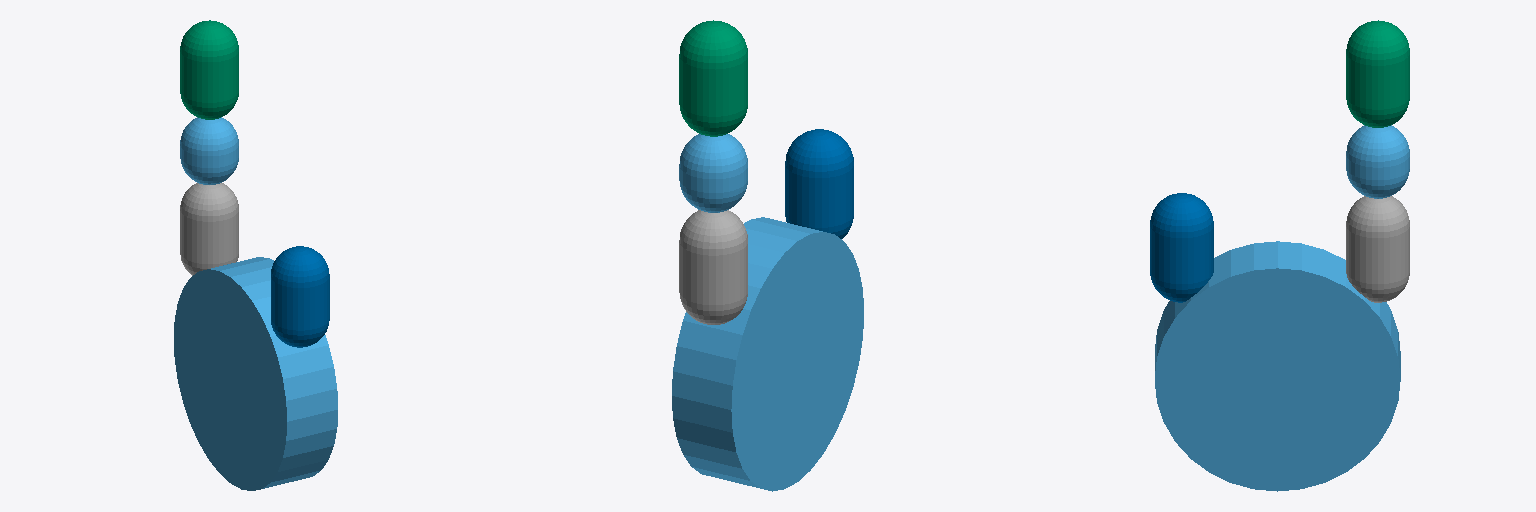
robot.urdf — DexterousHand:
<?xml version="1.0"?>
<robot name="DexterousHand">


    <link name="world"/>
    <joint name="world_to_palm" type="fixed">
        <parent link="world"/>
        <child link="palm"/>
        <origin xyz="0 0 0" rpy="0 0 0"/>
    </joint>
    <link name="palm">
        <inertial>
            <origin xyz="0 0 0.057" rpy="0 0 0"/>
            <mass value="0.30212892864"/>
            <inertia ixx="0.00049080844457568" ixy="0.0" ixz="0.0" iyy="0.00026746366246427523" iyz="0.0" izz="0.00026746366246427523"/>
        </inertial>
        <visual>
            <origin xyz="0 0 0.057" rpy="1.5708 0 1.5708"/>
            <geometry>
                <cylinder radius="0.057" length="0.0296"/>
            </geometry>
            <material name="default"/>
        </visual>
        <collision>
            <origin xyz="0 0 0.057" rpy="1.5708 0 1.5708"/>
            <geometry>
                <cylinder radius="0.057" length="0.0296"/>
            </geometry>
        </collision>
    </link>

    
    <joint name="thumb_joint1" type="revolute">
        <parent link="palm"/>
        <child link="thumb_base"/>
        <origin xyz="0.0 0.0 0.0" rpy="0.0 0.0 0.0"/>
        <axis xyz="1 0 0"/>
        <limit lower="0.0" upper="0.0" effort="1.0" velocity="1.0"/>
    </joint>

    <link name="thumb_base"></link>

    <joint name="thumb_joint2" type="revolute">
        <parent link="thumb_base"/>
        <child link="thumb_proximal"/>
        <origin xyz="0.0 0.0 0.0" rpy="0.0 0.0 0.0"/>
        <axis xyz="0 1 0"/>
        <limit lower="0.0" upper="0.0" effort="1.0" velocity="1.0"/>
    </joint>

    <link name="thumb_proximal">
    </link>

    <joint name="thumb_joint3" type="revolute">
        <parent link="thumb_proximal"/>
        <child link="thumb_knuckle"/>
        <origin xyz="0.0 0.0 0.0" rpy="0.0 0.0 0.0"/>
        <axis xyz="1 0 0"/>
        <limit lower="0.0" upper="0.0" effort="1.0" velocity="1.0"/>
    </joint>

    <link name="thumb_knuckle"></link>

    <joint name="thumb_joint4" type="revolute">
        <parent link="thumb_knuckle"/>
        <child link="thumb_middle"/>
        <origin xyz="0 0 0" rpy="0 0 0"/> 
        <axis xyz="0 1 0"/>
        <limit lower="0.0" upper="0.0" effort="1.0" velocity="1.0"/>
    </joint>

    <link name="thumb_middle">
    </link>

    <joint name="thumb_joint5" type="revolute">
        <parent link="thumb_middle"/>
        <child link="thumb_distal"/>
        <origin xyz="0 0 0" rpy="0 0 0"/> 
        <axis xyz="0 1 0"/>
        <limit lower="0.0" upper="0.0" effort="1.0" velocity="1.0"/>
    </joint>

    <link name="thumb_distal">
    </link>

    
    <joint name="index_joint1" type="revolute">
        <parent link="palm"/>
        <child link="index_proximal"/>
        <origin xyz="0.0 0.0465 0.091" rpy="0.0 0.0 0.0"/>
        <axis xyz="0 1 0"/>
        <limit lower="-0.314" upper="2.23" effort="1.0" velocity="1.0"/>
    </joint>

    <link name="index_proximal">
        <inertial>
            <origin xyz="0 0 0.02655" rpy="0 0 0"/>
            <mass value="0.036540024998400006"/>
            <inertia ixx="1.058665009272394e-05" ixy="0.0" ixz="0.0" 
            iyy="1.058665009272394e-05" iyz="0.0" izz="4.001863537824769e-06"/>
        </inertial>
        <visual>
            <origin xyz="0 0 0.02655" rpy="0 0 0"/>
            <geometry>
                <cylinder radius="0.0148" length="0.0235"/>
            </geometry>
            <material name="default"/>
        </visual>
        <visual>
            <origin xyz="0 0 0.0148" rpy="0 0 0"/>
            <geometry>
                <sphere radius="0.0148"/>
            </geometry>
            <material name="default"/>
        </visual>
        <visual>
            <origin xyz="0 0 0.0383" rpy="0 0 0"/>
            <geometry>
                <sphere radius="0.0148"/>
            </geometry>
            <material name="default"/>
        </visual>
        <collision>
            <origin xyz="0 0 0.02655" rpy="0 0 0"/>
            <geometry>
                <cylinder radius="0.0148" length="0.0235"/>
            </geometry>
        </collision>
        <collision>
            <origin xyz="0 0 0.0148" rpy="0 0 0"/>
            <geometry>
                <sphere radius="0.0148"/>
            </geometry>
        </collision>
        <collision>
            <origin xyz="0 0 0.0383" rpy="0 0 0"/>
            <geometry>
                <sphere radius="0.0148"/>
            </geometry>
        </collision>
    </link>

    <joint name="index_joint2" type="revolute">
        <parent link="index_proximal"/>
        <child link="index_dummy"/>
        <origin xyz="0.0 0.0 0.038" rpy="0.0 0.0 0.0"/>
        <axis xyz="1 0 0"/>
        <limit lower="-1.047" upper="1.047" effort="1.0" velocity="1.0"/>
    </joint>

    <link name="index_dummy"></link>

    <joint name="index_joint3" type="revolute">
        <parent link="index_dummy"/>
        <child link="index_middle"/>
        <origin xyz="0 0 0.015100000000000002" rpy="0 0 0"/>
        <axis xyz="0 1 0"/>
        <limit lower="-0.506" upper="1.885" effort="1.0" velocity="1.0"/>
    </joint>

    <link name="index_middle">
        <inertial>
            <origin xyz="0 0 0.01805" rpy="0 0 0"/>
            <mass value="0.0248417119104"/>
            <inertia ixx="4.058162759109537e-06" ixy="0.0" ixz="0.0" 
            iyy="4.058162759109537e-06" iyz="0.0" izz="2.7206642884270085e-06"/>
        </inertial>
        <visual>
            <origin xyz="0 0 0.01805" rpy="0 0 0"/>
            <geometry>
                <cylinder radius="0.0148" length="0.006499999999999999"/>
            </geometry>
            <material name="default"/>
        </visual>
        <visual>
            <origin xyz="0 0 0.0148" rpy="0 0 0"/>
            <geometry>
                <sphere radius="0.0148"/>
            </geometry>
            <material name="default"/>
        </visual>
        <visual>
            <origin xyz="0 0 0.0213" rpy="0 0 0"/>
            <geometry>
                <sphere radius="0.0148"/>
            </geometry>
            <material name="default"/>
        </visual>
        <collision>
            <origin xyz="0 0 0.01805" rpy="0 0 0"/>
            <geometry>
                <cylinder radius="0.0148" length="0.006499999999999999"/>
            </geometry>
        </collision>
        <collision>
            <origin xyz="0 0 0.0148" rpy="0 0 0"/>
            <geometry>
                <sphere radius="0.0148"/>
            </geometry>
        </collision>
        <collision>
            <origin xyz="0 0 0.0213" rpy="0 0 0"/>
            <geometry>
                <sphere radius="0.0148"/>
            </geometry>
        </collision>
    </link>

    <joint name="index_joint4" type="revolute">
        <parent link="index_middle"/>
        <child link="index_distal"/>
        <origin xyz="0 0 0.0361" rpy="0 0 0"/> 
        <axis xyz="0 1 0"/>
        <limit lower="-0.366" upper="2.042" effort="1.0" velocity="1.0"/>
    </joint>

    <link name="index_distal">
        <inertial>
            <origin xyz="0 0 0.026" rpy="0 0 0"/>
            <mass value="0.035783075328"/>
            <inertia ixx="1.002260084553728e-05" ixy="0.0" ixz="0.0" 
            iyy="1.002260084553728e-05" iyz="0.0" izz="3.91896240992256e-06"/>
        </inertial>
        <visual>
            <origin xyz="0 0 0.026" rpy="0 0 0"/>
            <geometry>
                <cylinder radius="0.0148" length="0.022399999999999996"/>
            </geometry>
            <material name="default"/>
        </visual>
        <visual>
            <origin xyz="0 0 0.0148" rpy="0 0 0"/>
            <geometry>
                <sphere radius="0.0148"/>
            </geometry>
            <material name="default"/>
        </visual>
        <visual>
            <origin xyz="0 0 0.0372" rpy="0 0 0"/>
            <geometry>
                <sphere radius="0.0148"/>
            </geometry>
            <material name="default"/>
        </visual>
        <collision>
            <origin xyz="0 0 0.026" rpy="0 0 0"/>
            <geometry>
                <cylinder radius="0.0148" length="0.022399999999999996"/>
            </geometry>
        </collision>
        <collision>
            <origin xyz="0 0 0.0148" rpy="0 0 0"/>
            <geometry>
                <sphere radius="0.0148"/>
            </geometry>
        </collision>
        <collision>
            <origin xyz="0 0 0.0372" rpy="0 0 0"/>
            <geometry>
                <sphere radius="0.0148"/>
            </geometry>
        </collision>
    </link>

    
    <joint name="middle_joint1" type="revolute">
        <parent link="palm"/>
        <child link="middle_proximal"/>
        <origin xyz="0.0 0.0 0.0" rpy="0.0 0.0 0.0"/>
        <axis xyz="1 0 0"/>
        <limit lower="0.0" upper="0.0" effort="1.0" velocity="1.0"/>
    </joint>

    <link name="middle_proximal">
    </link>

    <joint name="middle_joint2" type="revolute">
        <parent link="middle_proximal"/>
        <child link="middle_dummy"/>
        <origin xyz="0.0 0.0 0.0" rpy="0.0 0.0 0.0"/>
        <axis xyz="0 1 0"/>
        <limit lower="0.0" upper="0.0" effort="1.0" velocity="1.0"/>
    </joint>

    <link name="middle_dummy"></link>

    <joint name="middle_joint3" type="revolute">
        <parent link="middle_dummy"/>
        <child link="middle_middle"/>
        <origin xyz="0 0 0" rpy="0 0 0"/>
        <axis xyz="0 1 0"/>
        <limit lower="0.0" upper="0.0" effort="1.0" velocity="1.0"/>
    </joint>

    <link name="middle_middle">
    </link>

    <joint name="middle_joint4" type="revolute">
        <parent link="middle_middle"/>
        <child link="middle_distal"/>
        <origin xyz="0 0 0" rpy="0 0 0"/> 
        <axis xyz="0 1 0"/>
        <limit lower="0.0" upper="0.0" effort="1.0" velocity="1.0"/>
    </joint>

    <link name="middle_distal">
    </link>

    
    <joint name="ring_joint1" type="revolute">
        <parent link="palm"/>
        <child link="ring_proximal"/>
        <origin xyz="0.0 0.0 0.0" rpy="0.0 0.0 0.0"/>
        <axis xyz="1 0 0"/>
        <limit lower="0.0" upper="0.0" effort="1.0" velocity="1.0"/>
    </joint>

    <link name="ring_proximal">
    </link>

    <joint name="ring_joint2" type="revolute">
        <parent link="ring_proximal"/>
        <child link="ring_dummy"/>
        <origin xyz="0.0 0.0 0.0" rpy="0.0 0.0 0.0"/>
        <axis xyz="0 1 0"/>
        <limit lower="0.0" upper="0.0" effort="1.0" velocity="1.0"/>
    </joint>

    <link name="ring_dummy"></link>

    <joint name="ring_joint3" type="revolute">
        <parent link="ring_dummy"/>
        <child link="ring_middle"/>
        <origin xyz="0 0 0" rpy="0 0 0"/>
        <axis xyz="0 1 0"/>
        <limit lower="0.0" upper="0.0" effort="1.0" velocity="1.0"/>
    </joint>

    <link name="ring_middle">
    </link>

    <joint name="ring_joint4" type="revolute">
        <parent link="ring_middle"/>
        <child link="ring_distal"/>
        <origin xyz="0 0 0" rpy="0 0 0"/> 
        <axis xyz="0 1 0"/>
        <limit lower="0.0" upper="0.0" effort="1.0" velocity="1.0"/>
    </joint>

    <link name="ring_distal">
    </link>

    
    <joint name="little_joint0" type="revolute">
        <parent link="palm"/>
        <child link="little_base"/>
        <origin xyz="0.0 0.0 0.0" rpy="0.0 0.0 0.0"/>
        <axis xyz="0 1 0"/>
        <limit lower="0.0" upper="0.0" effort="1.0" velocity="1.0"/>
    </joint>

    <link name="little_base"></link>

    <joint name="little_joint1" type="revolute">
        <parent link="little_base"/>
        <child link="little_proximal"/>
        <origin xyz="0.0 -0.0443 0.091" rpy="-0.0 -0.0 -0.0"/>
        <axis xyz="0 1 0"/>
        <limit lower="-0.314" upper="2.23" effort="1.0" velocity="1.0"/>
    </joint>

    <link name="little_proximal">
        <inertial>
            <origin xyz="0 0 0.02655" rpy="0 0 0"/>
            <mass value="0.036540024998400006"/>
            <inertia ixx="1.058665009272394e-05" ixy="0.0" ixz="0.0" 
            iyy="1.058665009272394e-05" iyz="0.0" izz="4.001863537824769e-06"/>
        </inertial>
        <visual>
            <origin xyz="0 0 0.02655" rpy="0 0 0"/>
            <geometry>
                <cylinder radius="0.0148" length="0.0235"/>
            </geometry>
            <material name="default"/>
        </visual>
        <visual>
            <origin xyz="0 0 0.0148" rpy="0 0 0"/>
            <geometry>
                <sphere radius="0.0148"/>
            </geometry>
            <material name="default"/>
        </visual>
        <visual>
            <origin xyz="0 0 0.0383" rpy="0 0 0"/>
            <geometry>
                <sphere radius="0.0148"/>
            </geometry>
            <material name="default"/>
        </visual>
        <collision>
            <origin xyz="0 0 0.02655" rpy="0 0 0"/>
            <geometry>
                <cylinder radius="0.0148" length="0.0235"/>
            </geometry>
        </collision>
        <collision>
            <origin xyz="0 0 0.0148" rpy="0 0 0"/>
            <geometry>
                <sphere radius="0.0148"/>
            </geometry>
        </collision>
        <collision>
            <origin xyz="0 0 0.0383" rpy="0 0 0"/>
            <geometry>
                <sphere radius="0.0148"/>
            </geometry>
        </collision>
    </link>

    <joint name="little_joint2" type="revolute">
        <parent link="little_proximal"/>
        <child link="little_dummy"/>
        <origin xyz="0.0 0.0 0.038" rpy="0.0 0.0 0.0"/>
        <axis xyz="0 1 0"/>
        <limit lower="0.0" upper="0.0" effort="1.0" velocity="1.0"/>
    </joint>

    <link name="little_dummy"></link>

    <joint name="little_joint3" type="revolute">
        <parent link="little_dummy"/>
        <child link="little_middle"/>
        <origin xyz="0 0 0.015100000000000002" rpy="0 0 0"/>
        <axis xyz="0 1 0"/>
        <limit lower="0.0" upper="0.0" effort="1.0" velocity="1.0"/>
    </joint>

    <link name="little_middle">
    </link>

    <joint name="little_joint4" type="revolute">
        <parent link="little_middle"/>
        <child link="little_distal"/>
        <origin xyz="0 0 0" rpy="0 0 0"/>
        <axis xyz="0 1 0"/>
        <limit lower="0.0" upper="0.0" effort="1.0" velocity="1.0"/>
    </joint>

    <link name="little_distal">
    </link>

</robot>

--- Render facts (derived) ---
3 views of the same robot in one strip: view 1: azimuth 30°, elevation 25°; view 2: azimuth 150°, elevation 25°; view 3: azimuth 270°, elevation 25° (orthographic).
Model DexterousHand with 24 links and 23 joints (22 revolute, 1 fixed), rooted at world, posed every joint at zero.
Visible links, largest first — view 1: palm, little_proximal, index_distal, index_proximal, index_middle; view 2: palm, index_proximal, index_distal, little_proximal, index_middle; view 3: palm, index_distal, little_proximal, index_proximal, index_middle.
Boxes of the visible links, box(x1,y1,x2,y2) form: palm: box(174, 257, 337, 490); little_proximal: box(271, 246, 329, 347); index_distal: box(180, 20, 238, 119); index_proximal: box(180, 183, 238, 275); index_middle: box(180, 117, 238, 184); palm: box(672, 217, 863, 491); index_proximal: box(679, 210, 747, 324); index_distal: box(679, 20, 747, 136); little_proximal: box(785, 129, 853, 238); index_middle: box(679, 134, 747, 212); palm: box(1155, 241, 1400, 491); index_distal: box(1346, 20, 1409, 127); little_proximal: box(1150, 193, 1213, 302); index_proximal: box(1346, 196, 1409, 302); index_middle: box(1346, 125, 1409, 198).
Size in the robot's own frame: 0.0296 by 0.1204 by 0.2322 metres.
Geometry: primitives only (box / cylinder / sphere), no mesh files.
